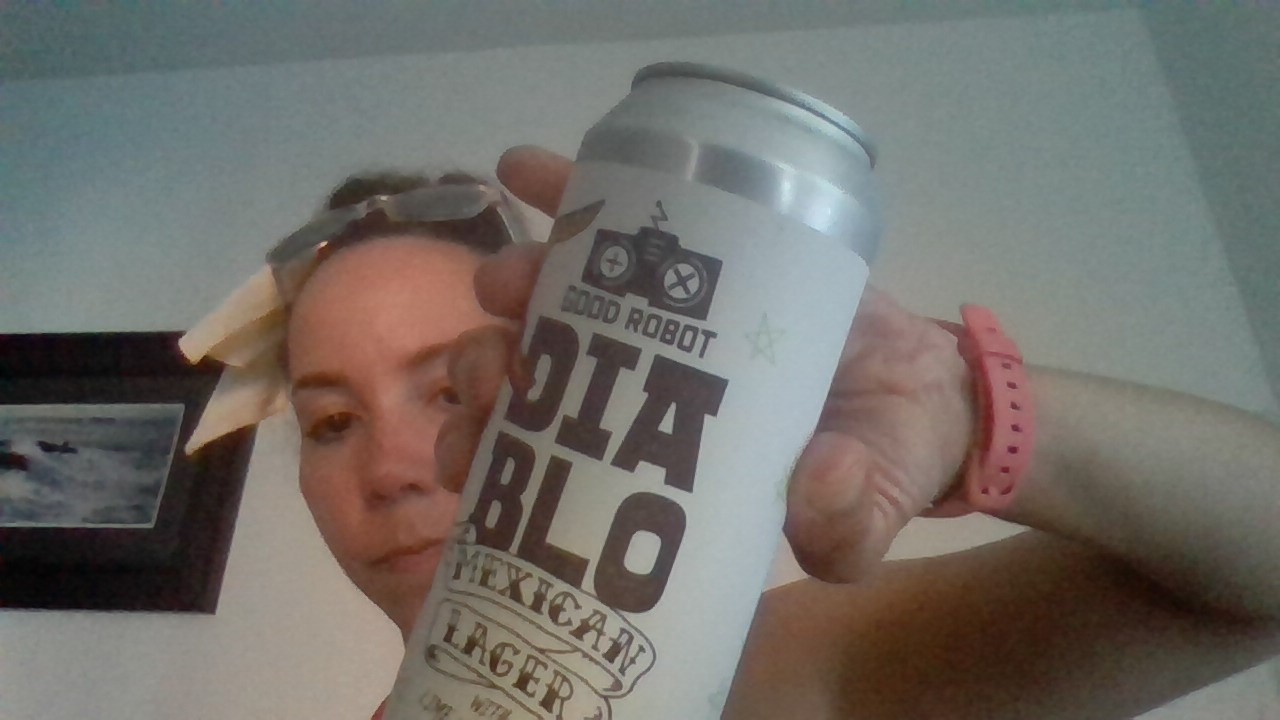Good Robot: (582, 198, 736, 320)
